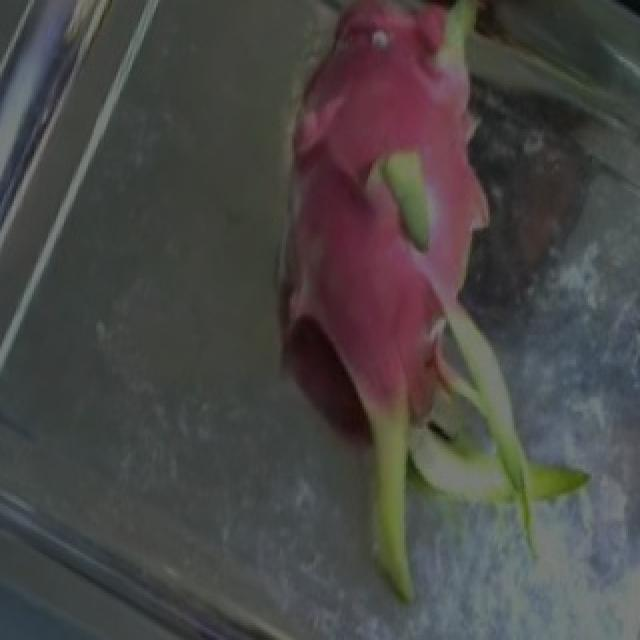fruit: (202, 228, 614, 635), (204, 0, 620, 380)
